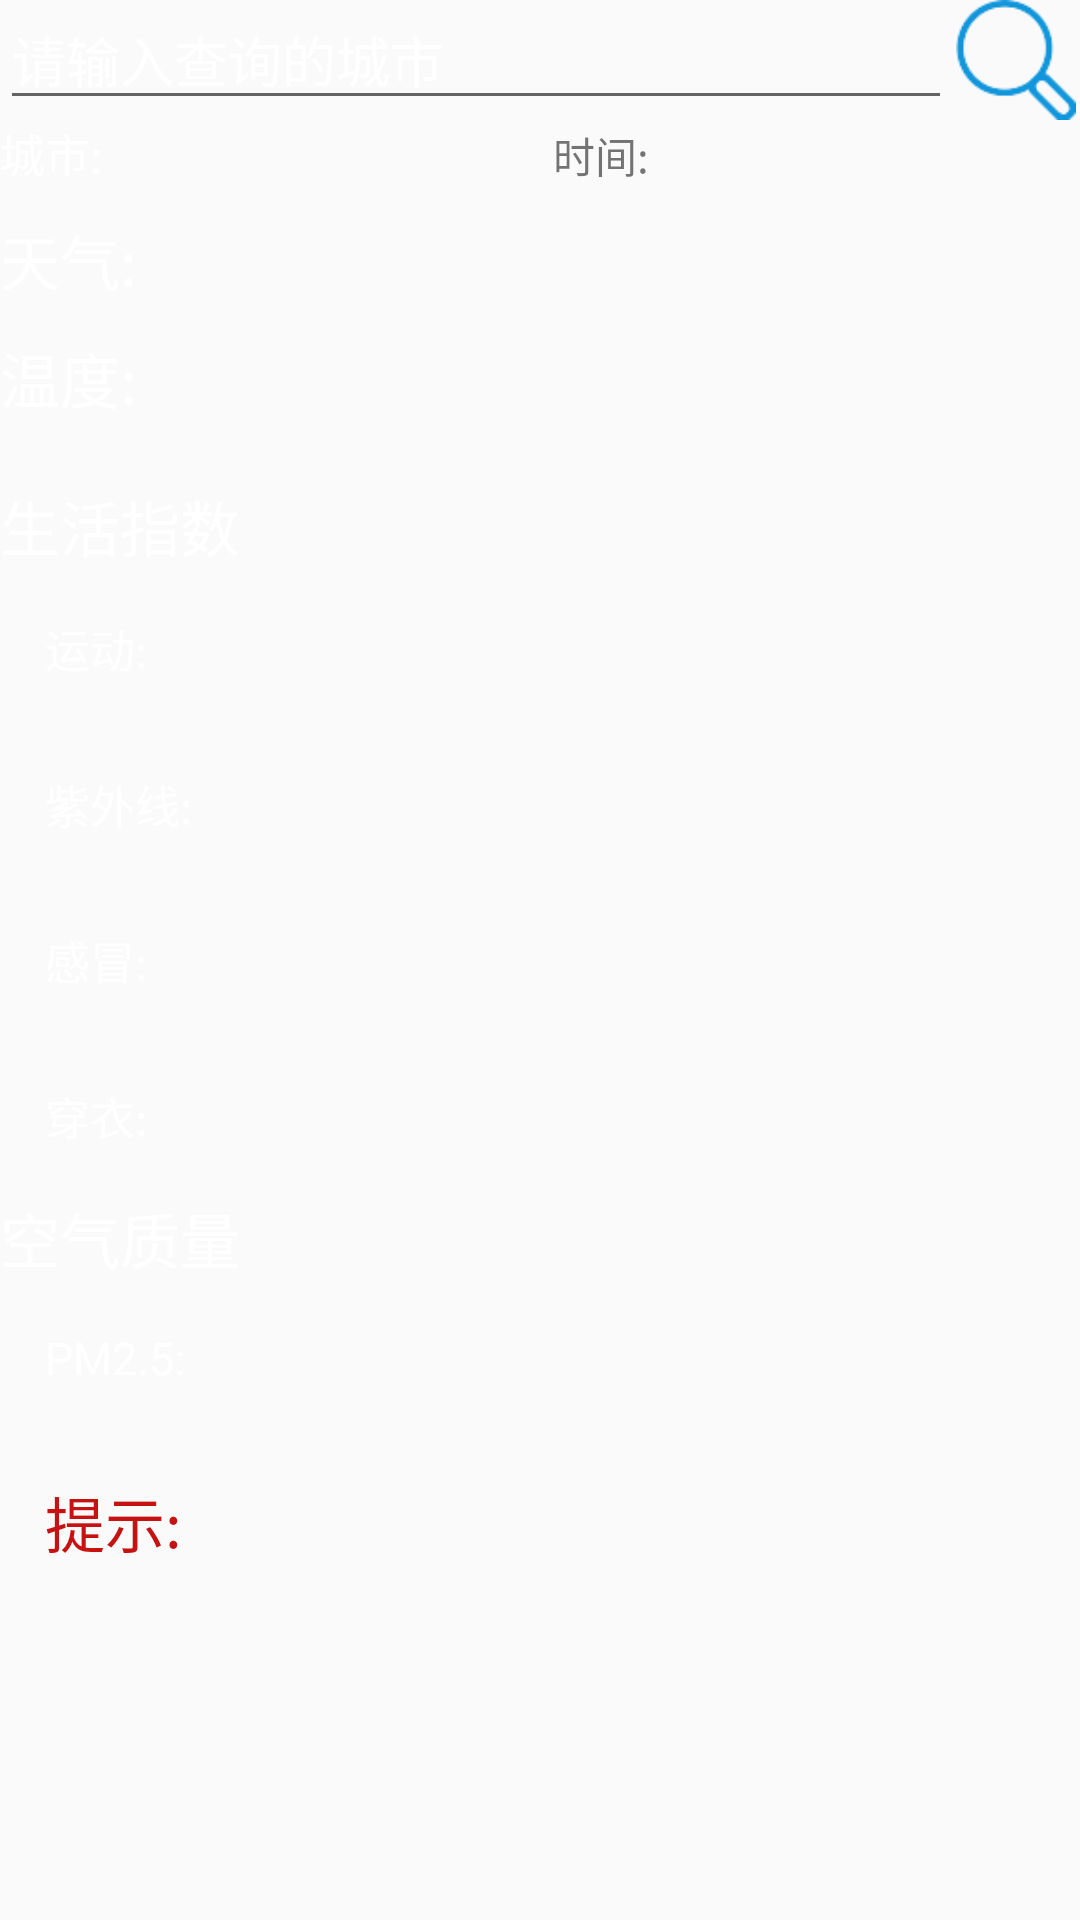

Icon click points for this 1080×1920 phone screenshot, format point (x, y):
search: point (1016, 60)
